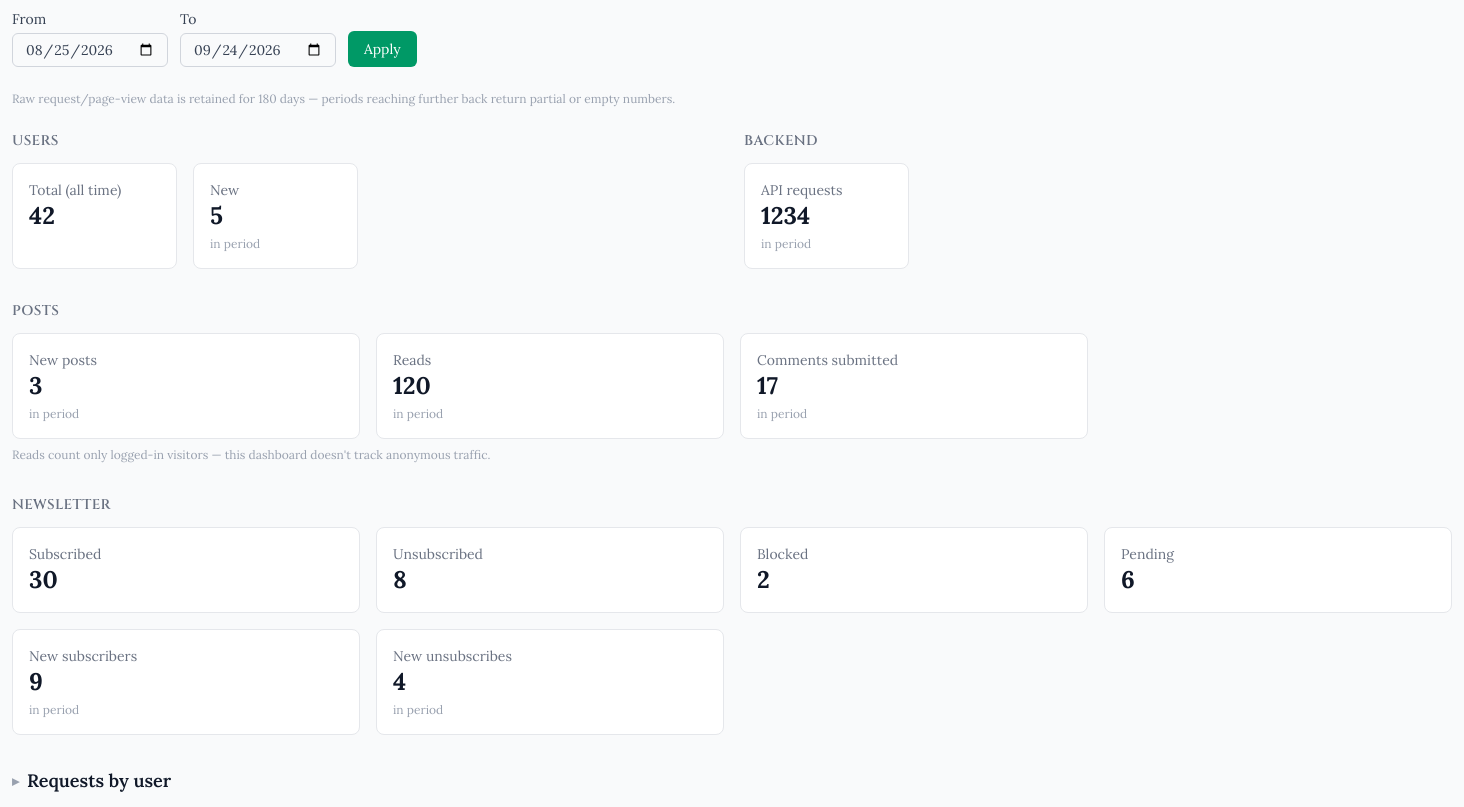
Test case: AnalyticsPage › paginates with Previous/Next, disabling at the ends
(page scrolled)
Expected: the text "42" is shown, [29, 200, 55, 231]
Click the button "▸ Requests by user": click(92, 781) [12, 767, 171, 795]
(page scrolled)
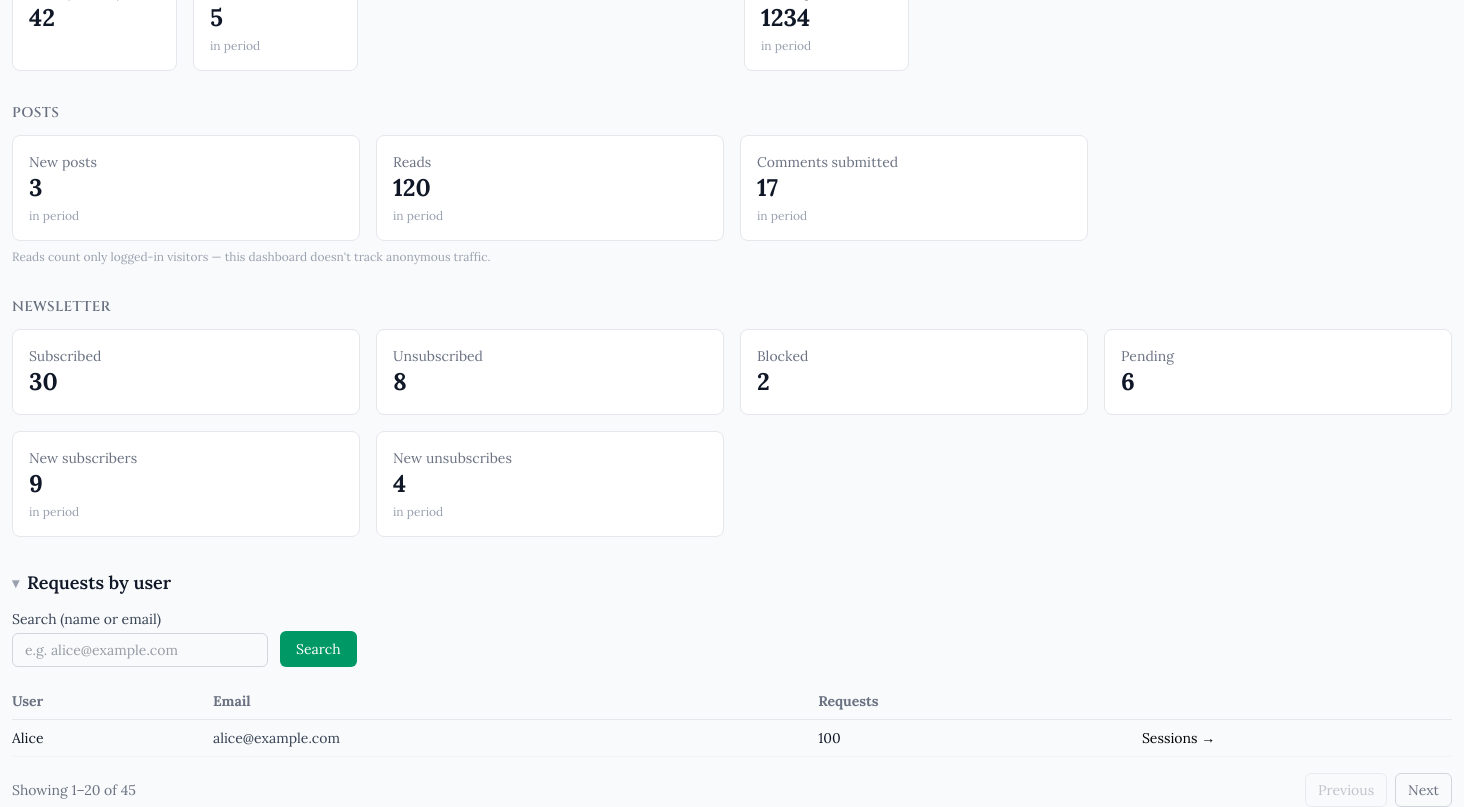
Result: the text "Alice" is shown at [12, 720, 213, 756]
Result: the button "Previous" is disabled at [1305, 773, 1387, 806]
Result: the button "Next" is enabled
Click the button "Next": click(1424, 790) [1395, 773, 1452, 806]
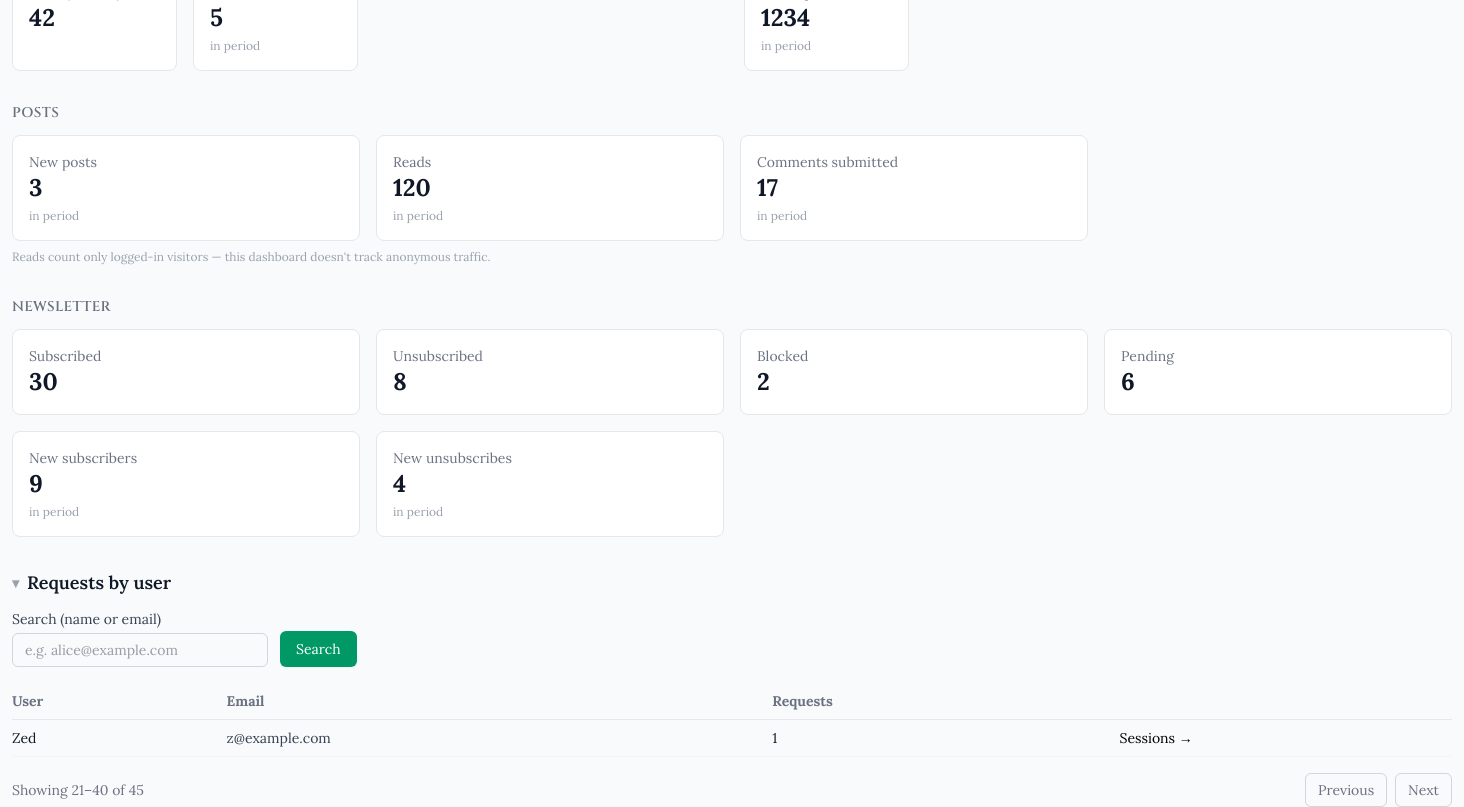
Result: the text "Zed" is shown at [12, 720, 227, 756]
Result: the text "Showing 21–40 of 45" is shown at [12, 780, 144, 800]
Result: the button "Previous" is enabled at [1305, 773, 1387, 806]
